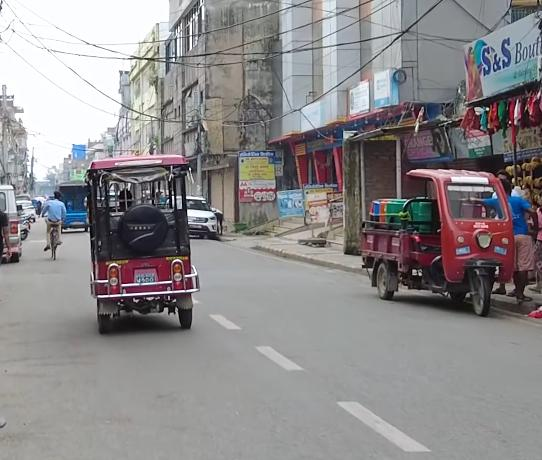e-rickshaw: (355, 153, 511, 319), (81, 151, 202, 339)
